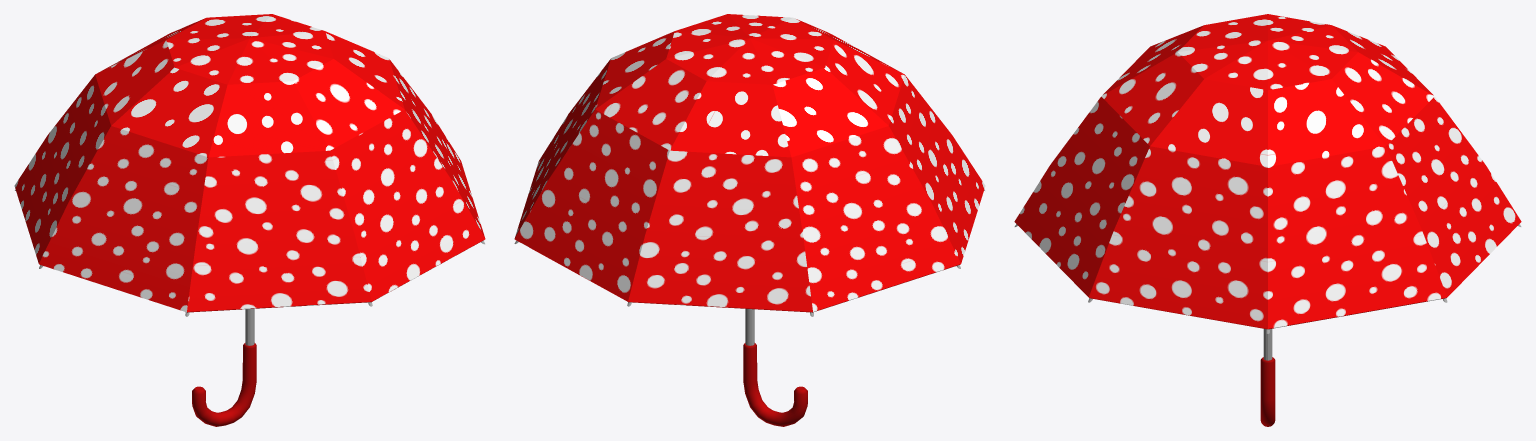
Rendered from UmbrellaTexture.fbx.
3 views of the same model, side by side, from view 1: azimuth 30°, elevation 25°; view 2: azimuth 150°, elevation 25°; view 3: azimuth 270°, elevation 25° (orthographic). The views are drawn at different scales.
Visible parts, largest first — view 1: pTorus6; view 2: pTorus6; view 3: pTorus6.
Boxes of the visible parts, box(x1,y1,x2,y2) form: pTorus6: box(14, 14, 485, 426); pTorus6: box(514, 14, 985, 426); pTorus6: box(1014, 14, 1521, 426).
Size of the model in its own units: 15.32 by 13.19 by 15.32.
3 materials, 1 textured.
